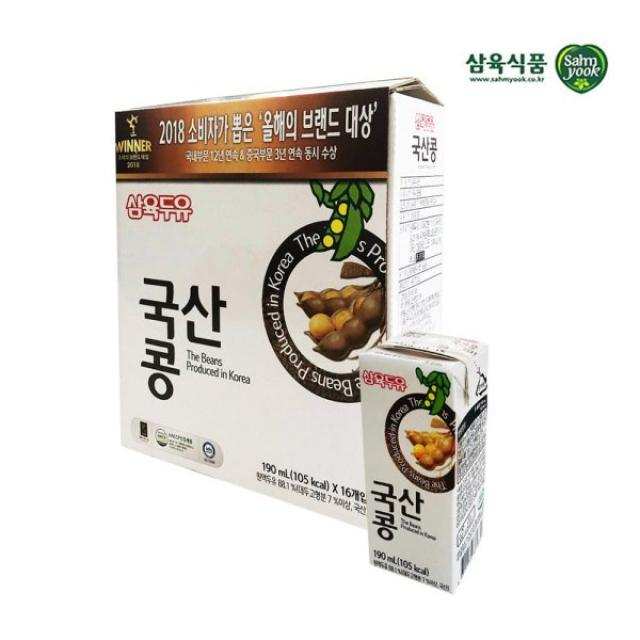Tetra: (355, 328, 510, 604)
